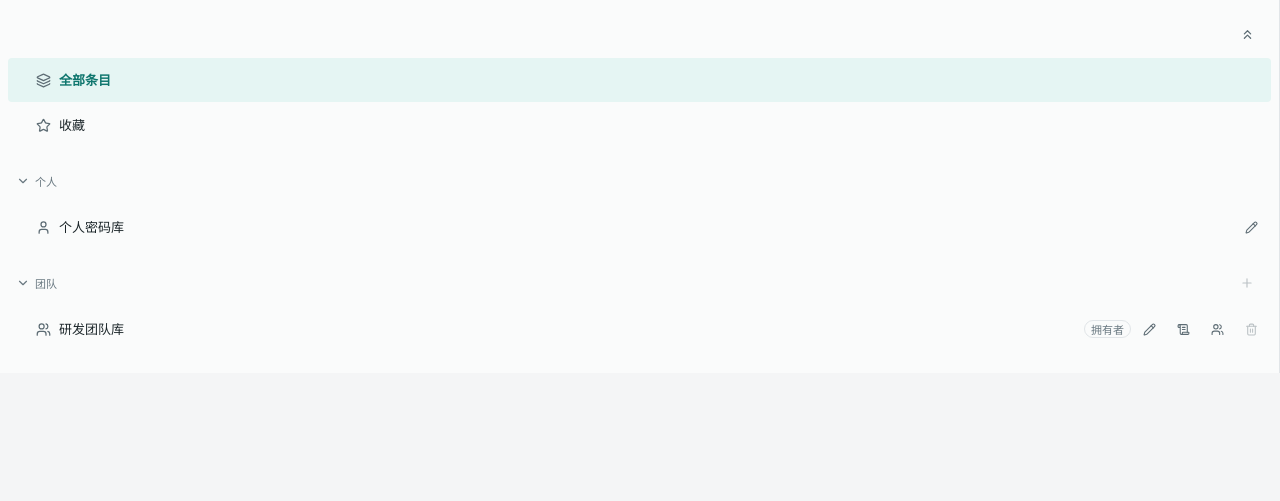
VaultNav › collapses personal and team groups independently
What coordinates should you click on to do the following:
click the button "个人密码库"
I would click on:
 (92, 227)
Its box is left=32, top=212, right=1235, bottom=242.
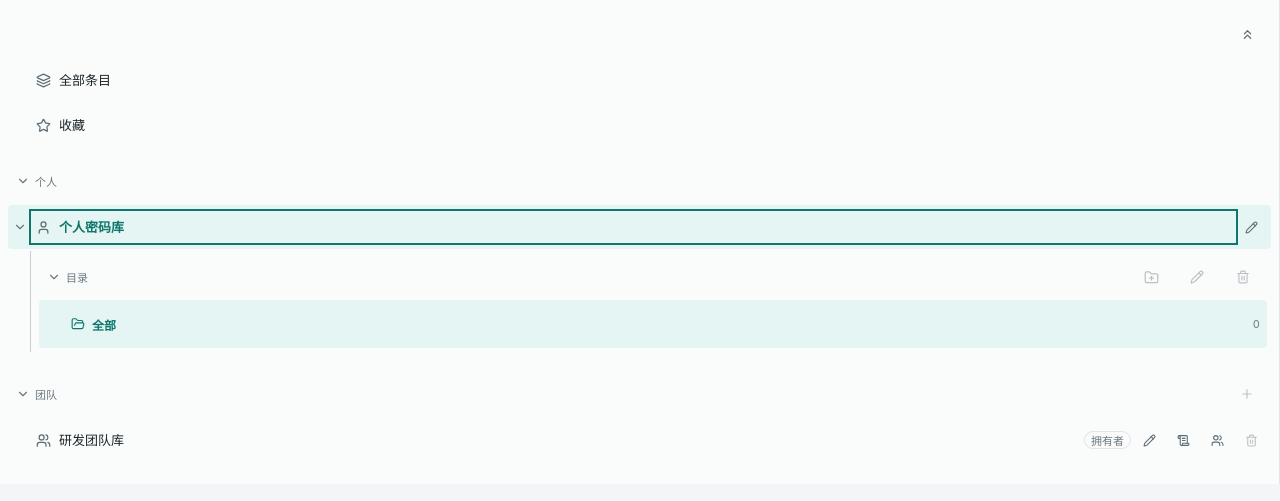
expect the button named "折叠个人密码库" is shown: met, box left=8, top=205, right=32, bottom=249
What coordinates should you click on to do the following:
click the button with aria-label "折叠个人库"
I would click on:
 (23, 181)
Its box is left=10, top=159, right=1269, bottom=203.
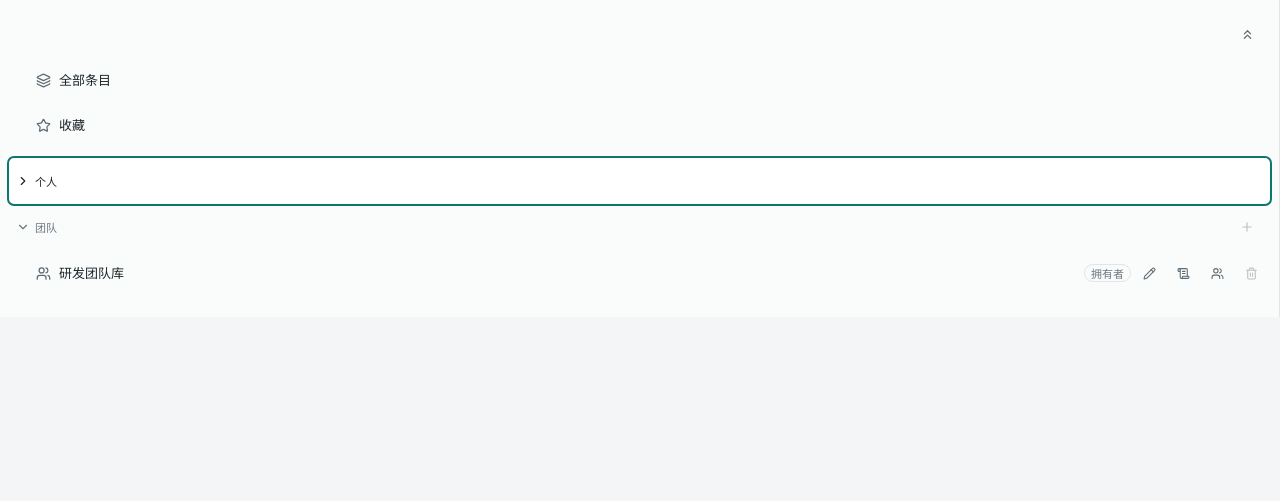
expect the button "研发团队库" is shown: met, box left=32, top=258, right=1084, bottom=288
expect the button "个人密码库" is gone: met
What coordinates should you click on to do the following:
click the button with aria-label "折叠团队库"
I would click on:
 (23, 227)
Its box is left=10, top=205, right=1225, bottom=249.
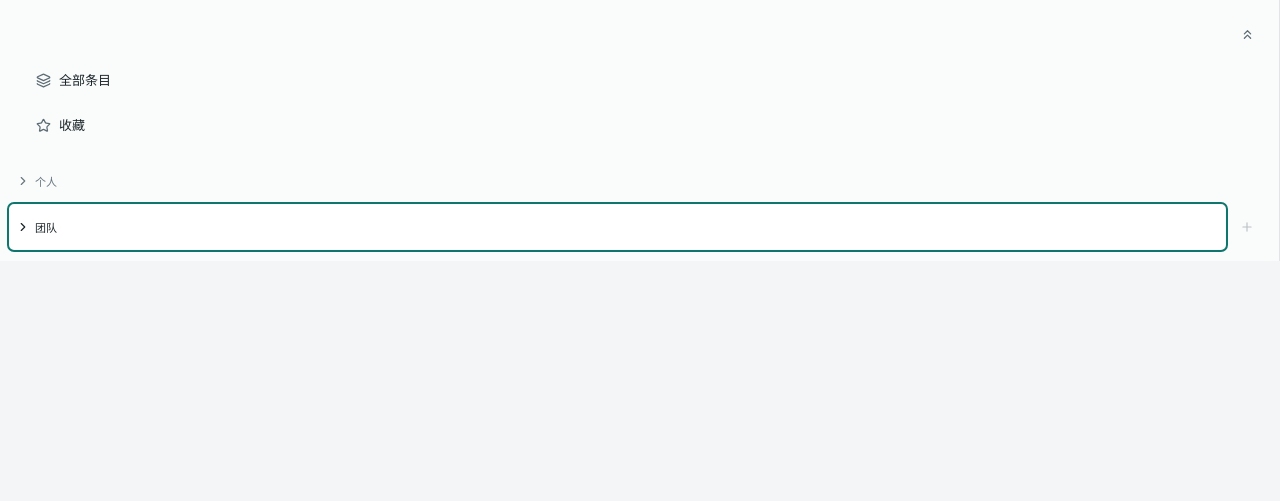
expect the button "研发团队库" is gone: met
What coordinates should you click on to do the following:
click the button with aria-label "展开个人库"
I would click on:
 (23, 181)
Its box is left=10, top=159, right=1269, bottom=203.
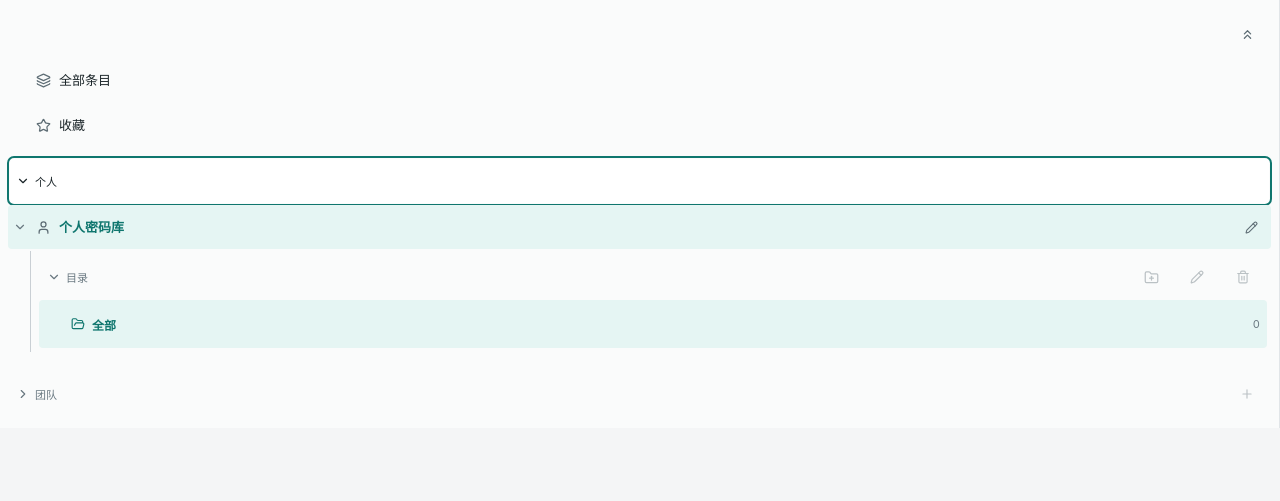
expect the button "研发团队库" is not shown: met
expect the button "个人密码库" is shown: met, box left=32, top=212, right=1235, bottom=242
What coordinates should you click on to do the following:
click the button named "全部收起"
I would click on:
 (1247, 34)
Its box is left=1225, top=12, right=1269, bottom=56.
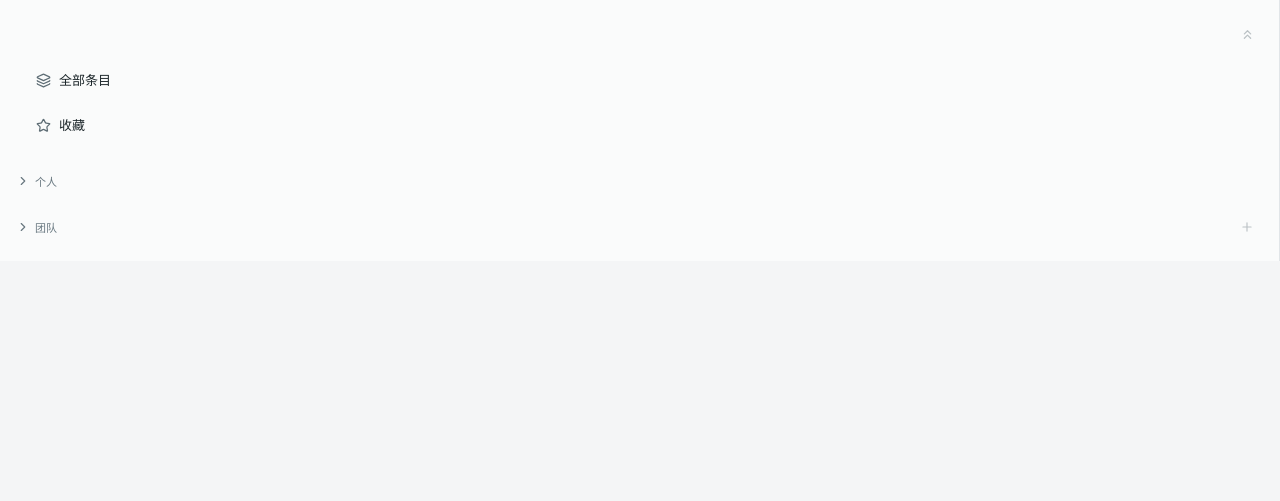
expect the button "研发团队库" is not shown: met
expect the button "个人密码库" is gone: met
